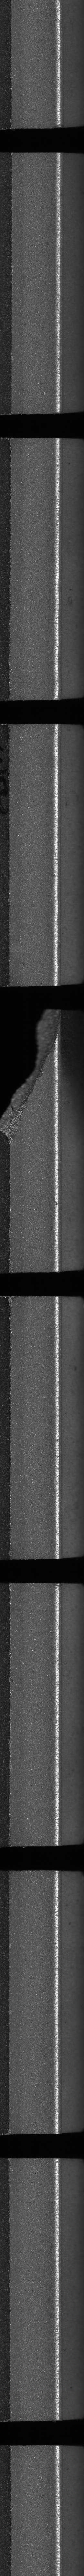Chip: (0, 1004, 64, 1150)
